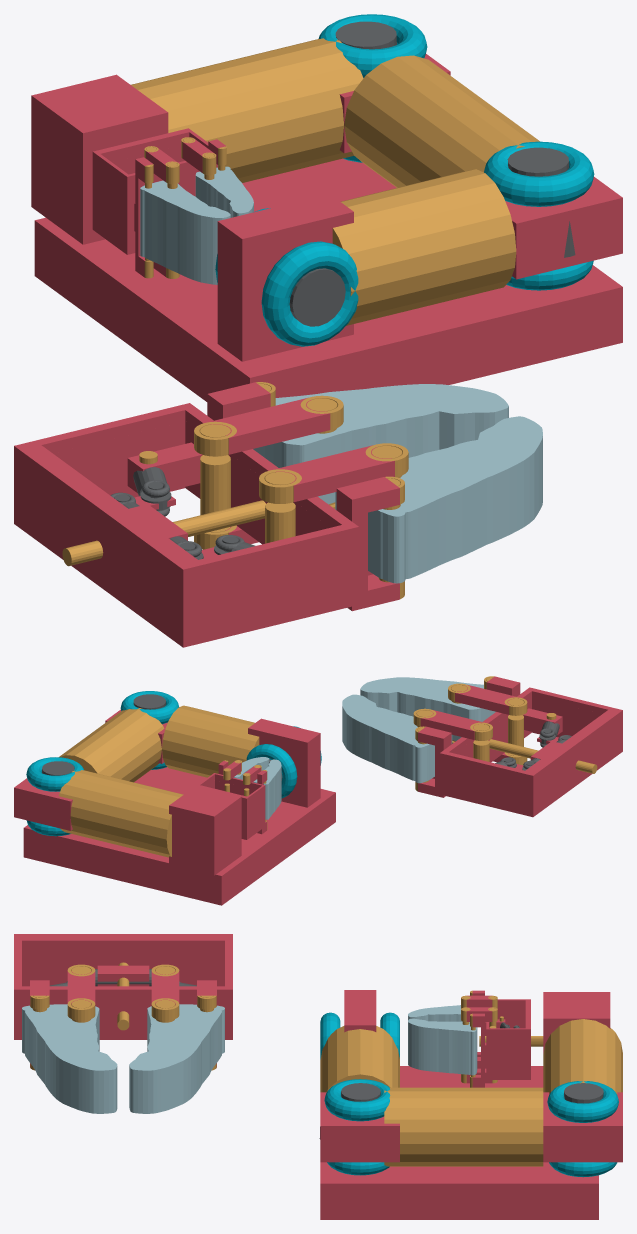
File: XBR-05.glb
The picture shows the model from 3 angles, top to bottom: view 1: azimuth 30°, elevation 25°; view 2: azimuth 150°, elevation 25°; view 3: azimuth 270°, elevation 25°; orthographic projection. The views are drawn at different scales.
Parts seen in each view (by area): view 1: Mesh_Mesh_head_geo.001_lambert2SG.001; view 2: Mesh_Mesh_head_geo.001_lambert2SG.001; view 3: Mesh_Mesh_head_geo.001_lambert2SG.001.
Part boxes in pixels (x1=…): Mesh_Mesh_head_geo.001_lambert2SG.001: x1=14, y1=14, x2=622, y2=647; Mesh_Mesh_head_geo.001_lambert2SG.001: x1=14, y1=676, x2=622, y2=905; Mesh_Mesh_head_geo.001_lambert2SG.001: x1=14, y1=934, x2=622, y2=1219.
Bounding box in the file's own units: 133 × 32 × 153.
